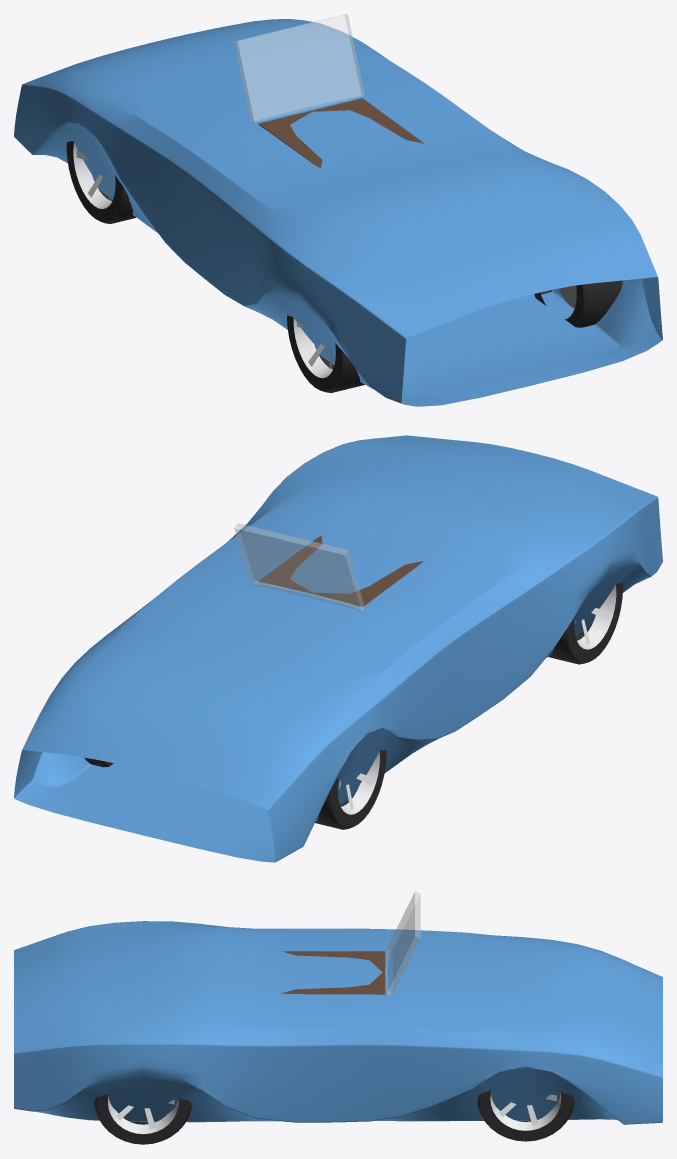
The model's file is vehicle.glb.
The picture shows the model from 3 angles, top to bottom: view 1: azimuth 30°, elevation 25°; view 2: azimuth 150°, elevation 25°; view 3: azimuth 270°, elevation 25°; orthographic projection. The views are drawn at different scales.
Parts seen in each view (by area): view 1: BODY_BMWZ3M_Roadster_MainHull, GLASS_Windshield, INTERIOR_CockpitTub, WHEEL_RL_Tire, WHEEL_RR_Tire, WHEEL_FR_Tire, WHEEL_FR_Rim, WHEEL_RR_Rim; view 2: BODY_BMWZ3M_Roadster_MainHull, GLASS_Windshield, INTERIOR_CockpitTub, WHEEL_RR_Tire, WHEEL_FR_Tire, WHEEL_RR_Rim, WHEEL_FR_Rim; view 3: BODY_BMWZ3M_Roadster_MainHull, GLASS_Windshield, WHEEL_FL_Tire, WHEEL_RL_Tire, INTERIOR_CockpitTub, WHEEL_FL_Rim, WHEEL_RL_Rim.
Boxes of the visible parts, x1,y1,x2,y2 form: BODY_BMWZ3M_Roadster_MainHull: (14,19,662,406); GLASS_Windshield: (234,14,364,122); INTERIOR_CockpitTub: (258,98,423,168); WHEEL_RL_Tire: (534,280,622,327); WHEEL_RR_Tire: (287,315,364,392); WHEEL_FR_Tire: (66,141,136,223); WHEEL_FR_Rim: (73,142,112,208); WHEEL_RR_Rim: (293,318,332,378); BODY_BMWZ3M_Roadster_MainHull: (14,435,662,862); GLASS_Windshield: (234,523,364,610); INTERIOR_CockpitTub: (258,535,423,607); WHEEL_RR_Tire: (548,582,622,664); WHEEL_FR_Tire: (315,750,386,829); WHEEL_RR_Rim: (575,584,616,649); WHEEL_FR_Rim: (339,750,379,814); BODY_BMWZ3M_Roadster_MainHull: (14,921,662,1124); GLASS_Windshield: (386,891,420,995); WHEEL_FL_Tire: (477,1090,574,1141); WHEEL_RL_Tire: (94,1094,191,1144); INTERIOR_CockpitTub: (281,951,385,994); WHEEL_FL_Rim: (490,1092,561,1130); WHEEL_RL_Rim: (108,1096,178,1134).
Size of the model in its own units: 1.93 by 1.24 by 4.15.
